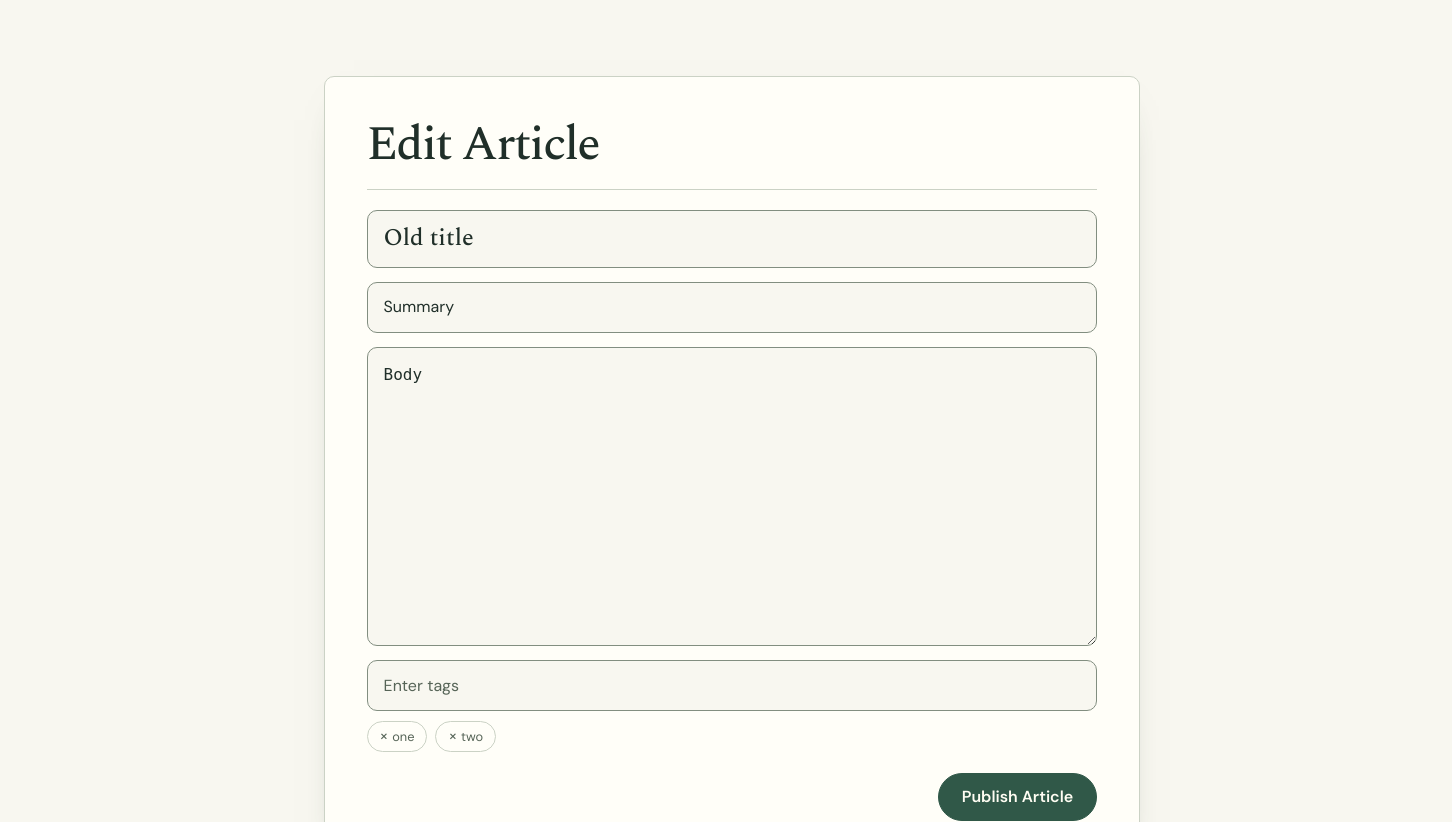
loads existing content, sends an empty tag list and uses the server slug after rename
This screenshot has width=1452, height=822.
Step 1. Replace the text in the field named "Article Title" with "New title" → [732, 239], box [367,210,1097,268]
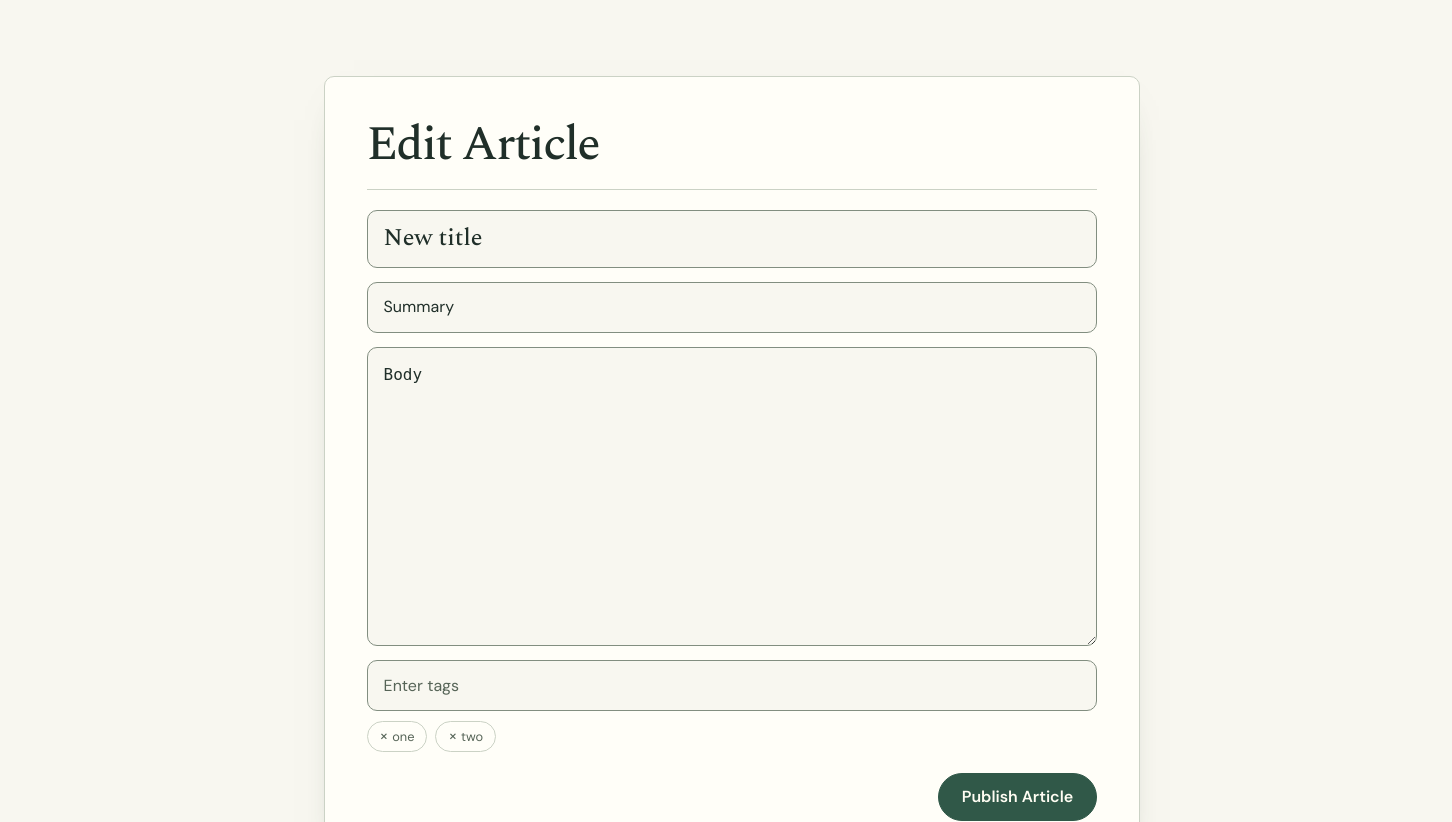
Step 2. Click the button named "Remove one" → [386, 736], box [380,728,392,745]
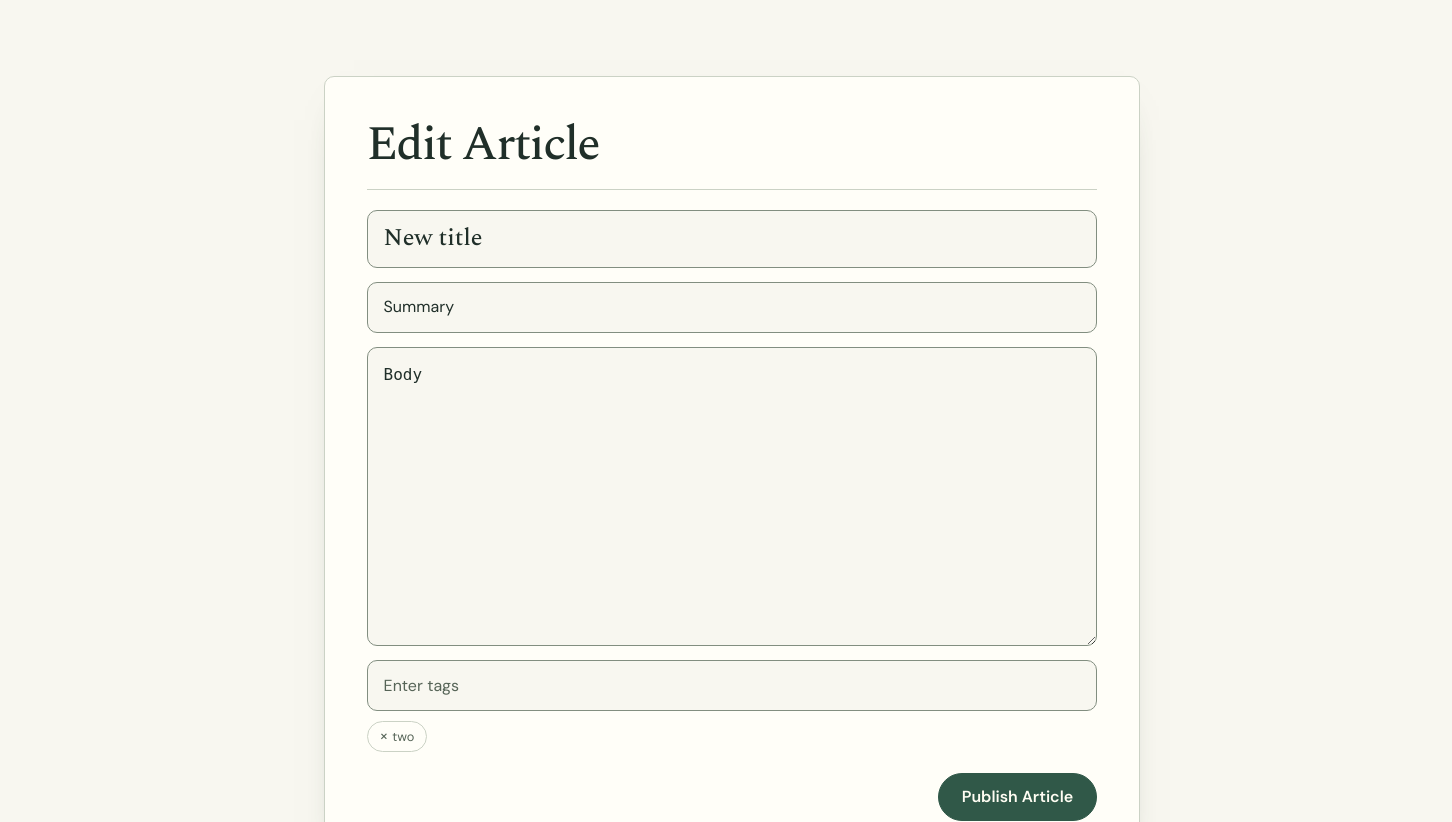
Step 3. Click the button named "Remove two" → [386, 736], box [380,728,392,745]
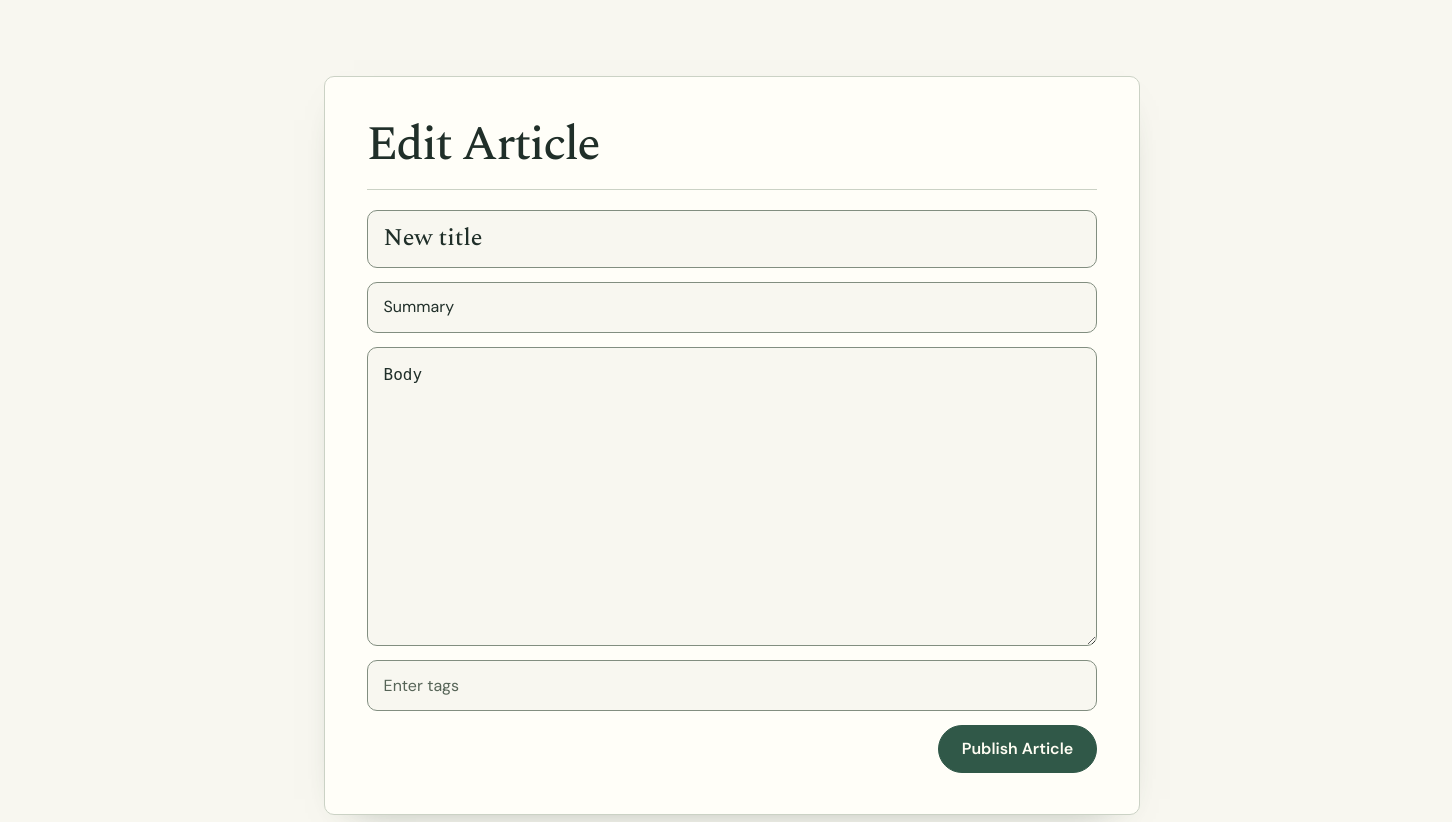
Step 4. Click the button "Publish Article" → [1018, 749], box [938,725,1097,773]
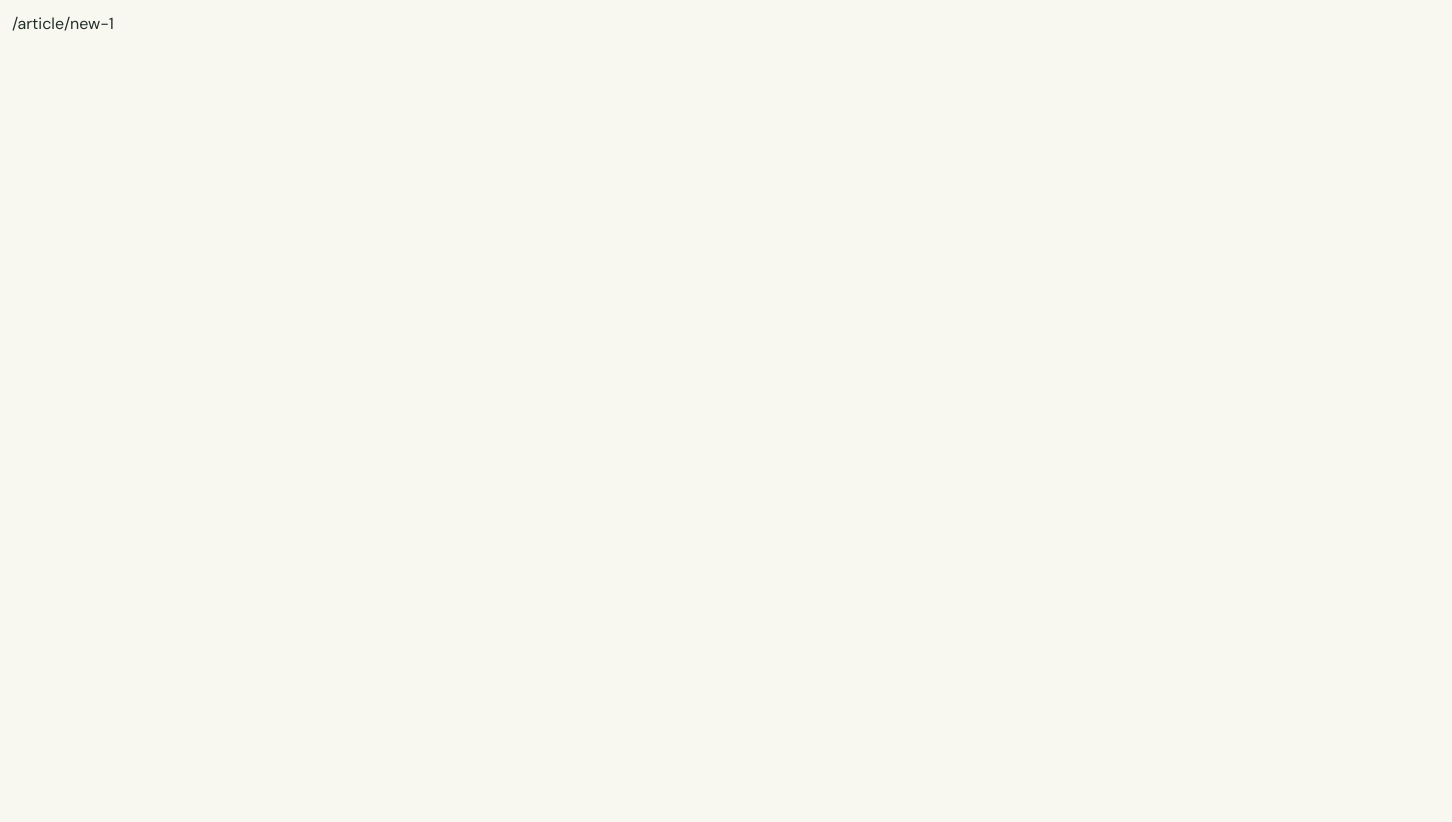
Expected: the text "/article/new-1" is shown, [12,13,114,34]
